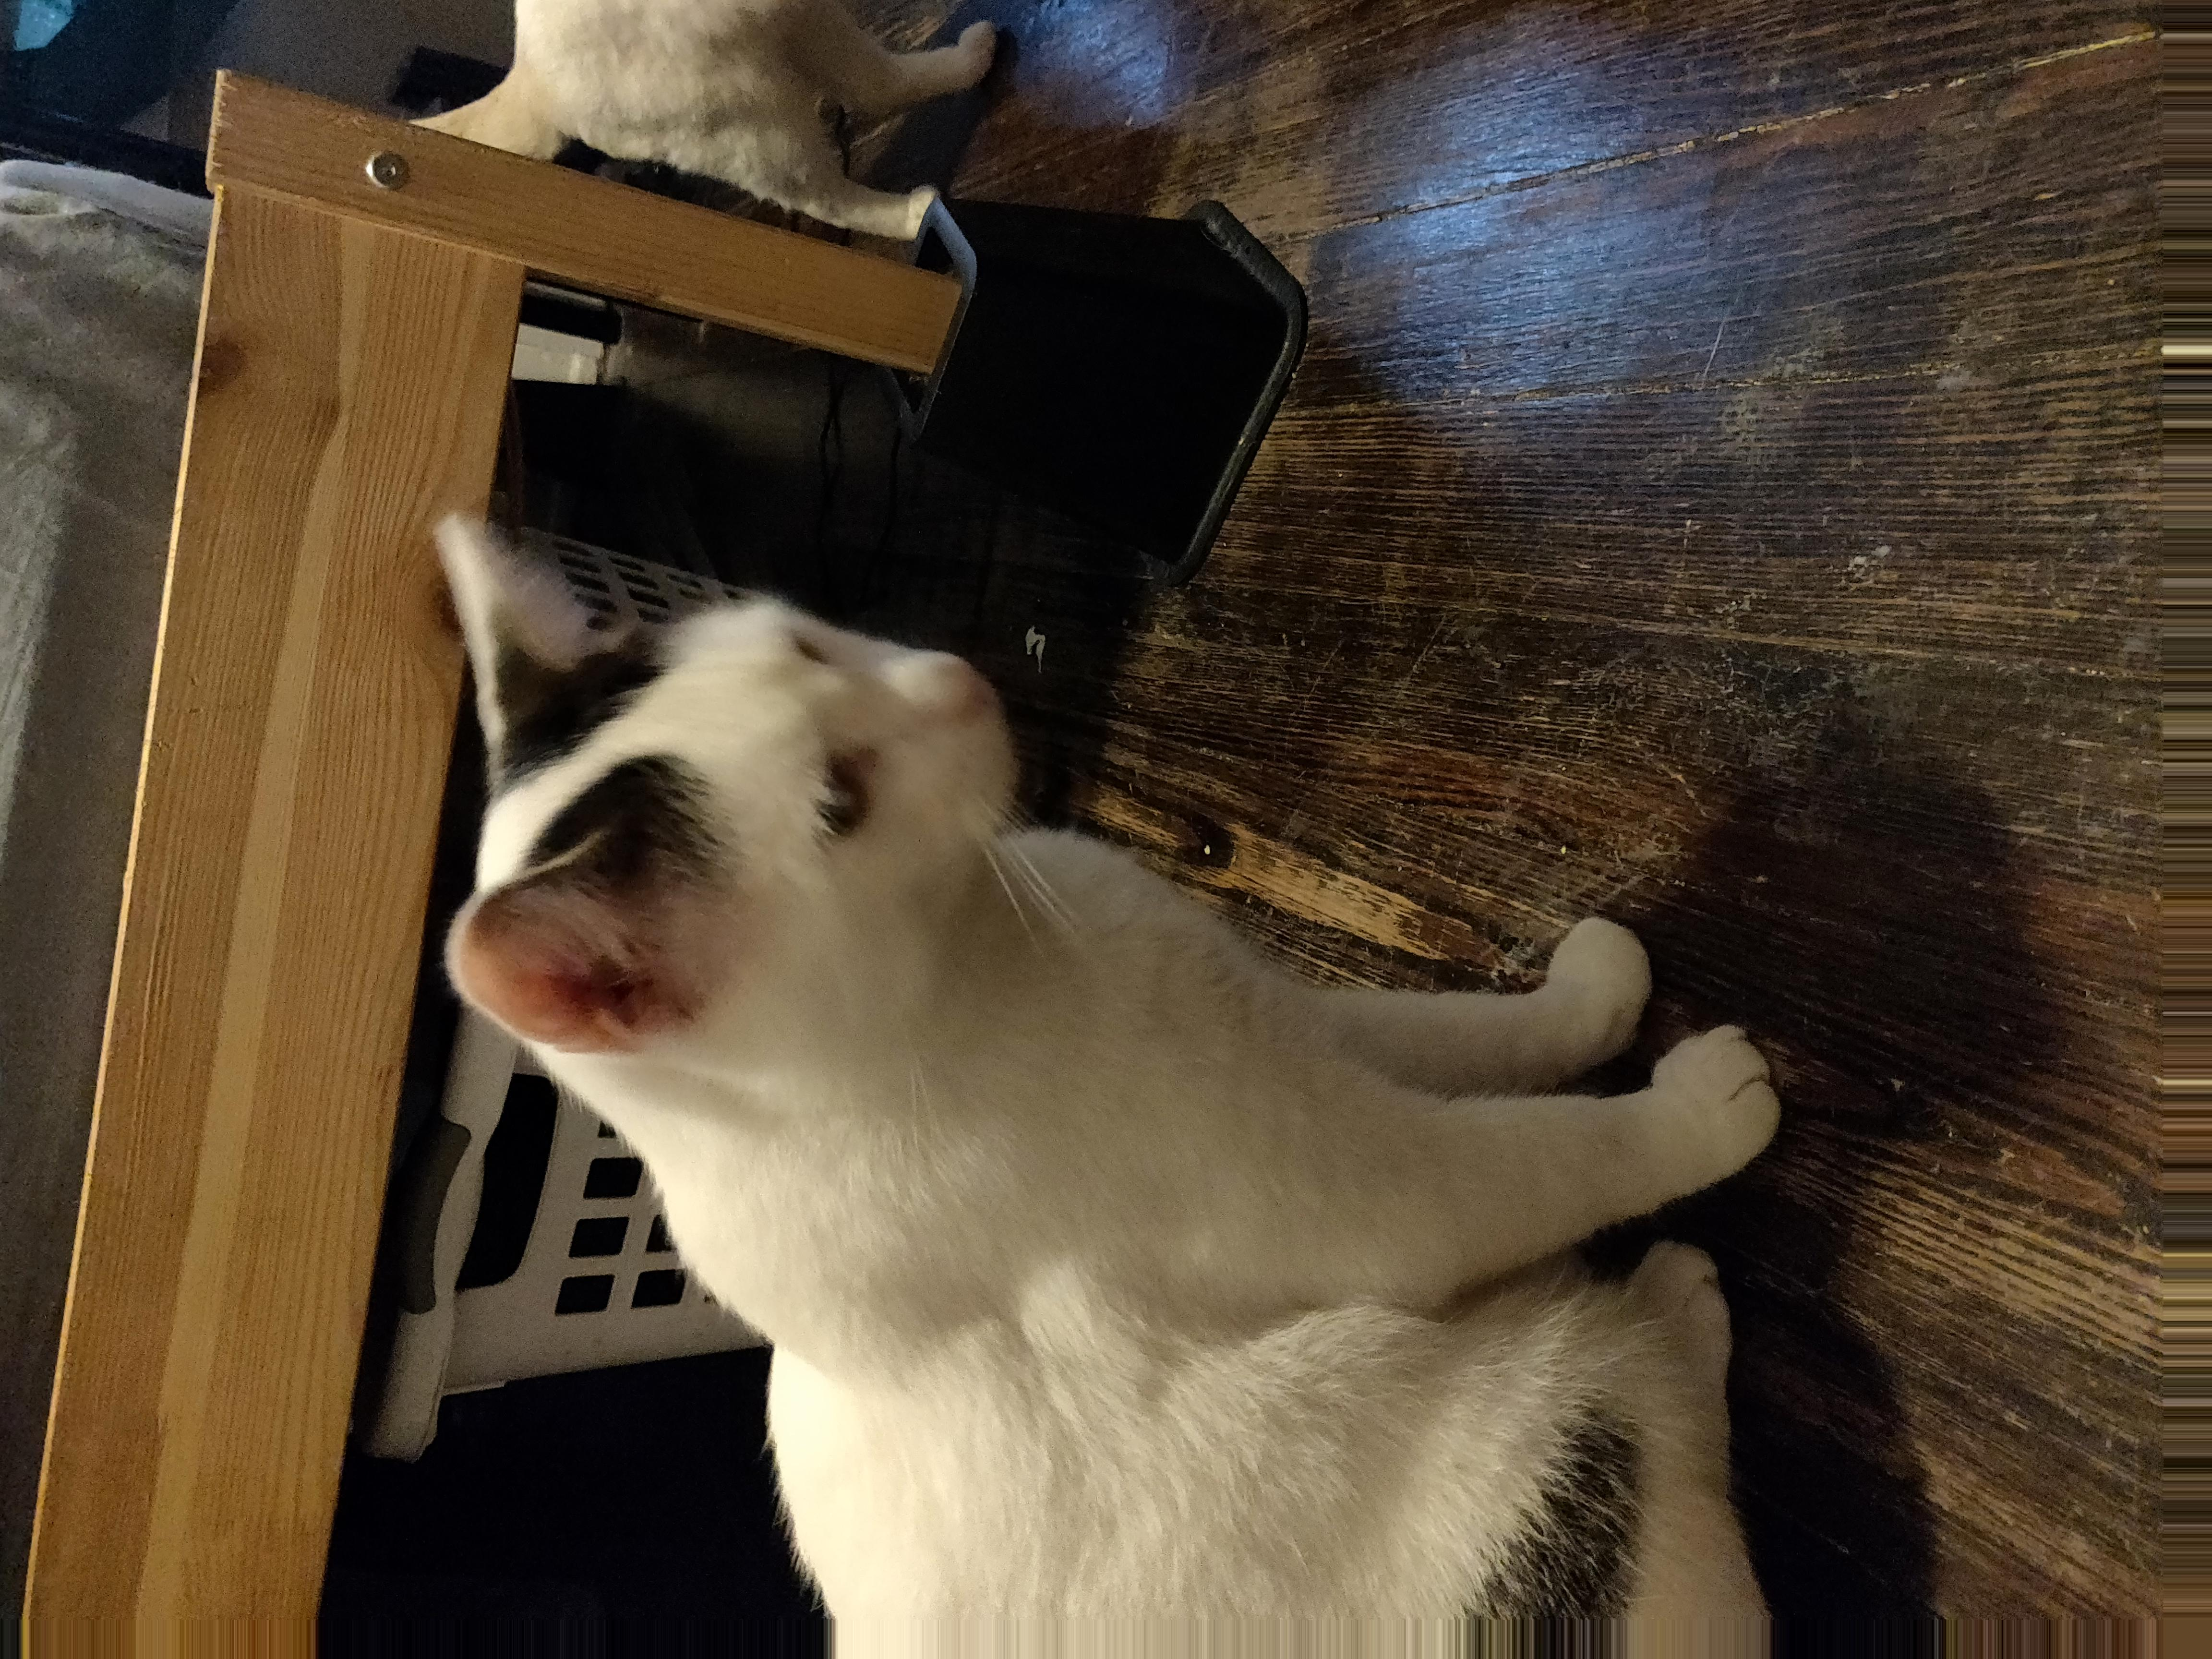cat: (449, 526, 1776, 1659)
